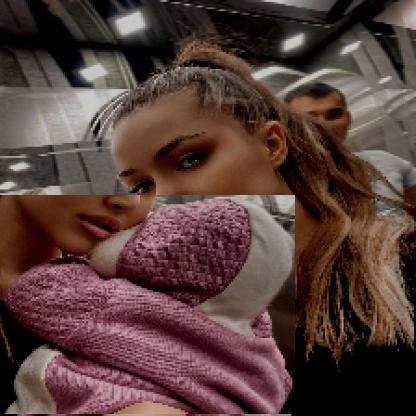child: (1, 196, 297, 416)
